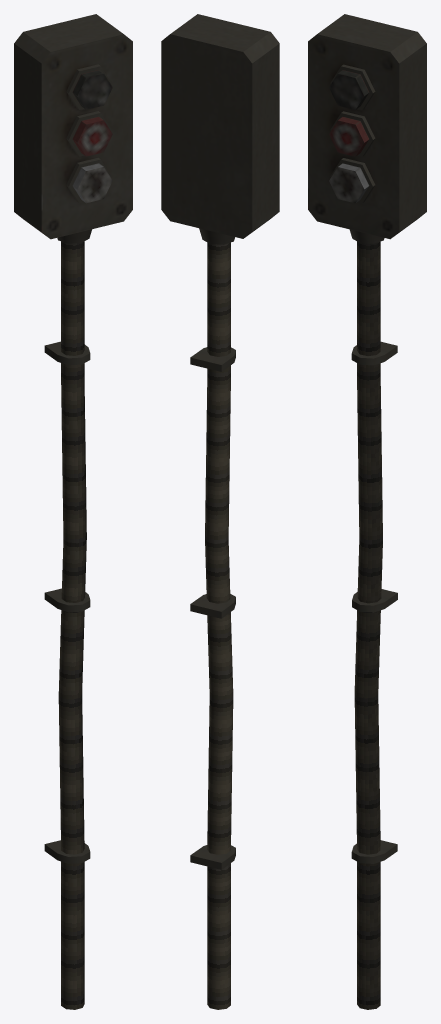
Rendered from button_12.obj.
3 renders of one model, left to right at view 1: azimuth 30°, elevation 25°; view 2: azimuth 150°, elevation 25°; view 3: azimuth 330°, elevation 25°, orthographic.
Visible parts, largest first — view 1: button_12; view 2: button_12; view 3: button_12.
Part boxes in pixels (x1,y1,x2,y2): button_12: (14,14,132,1009); button_12: (161,14,279,1009); button_12: (308,14,426,1009).
Size of the model in its own units: 0.11 by 1.12 by 0.0732.
